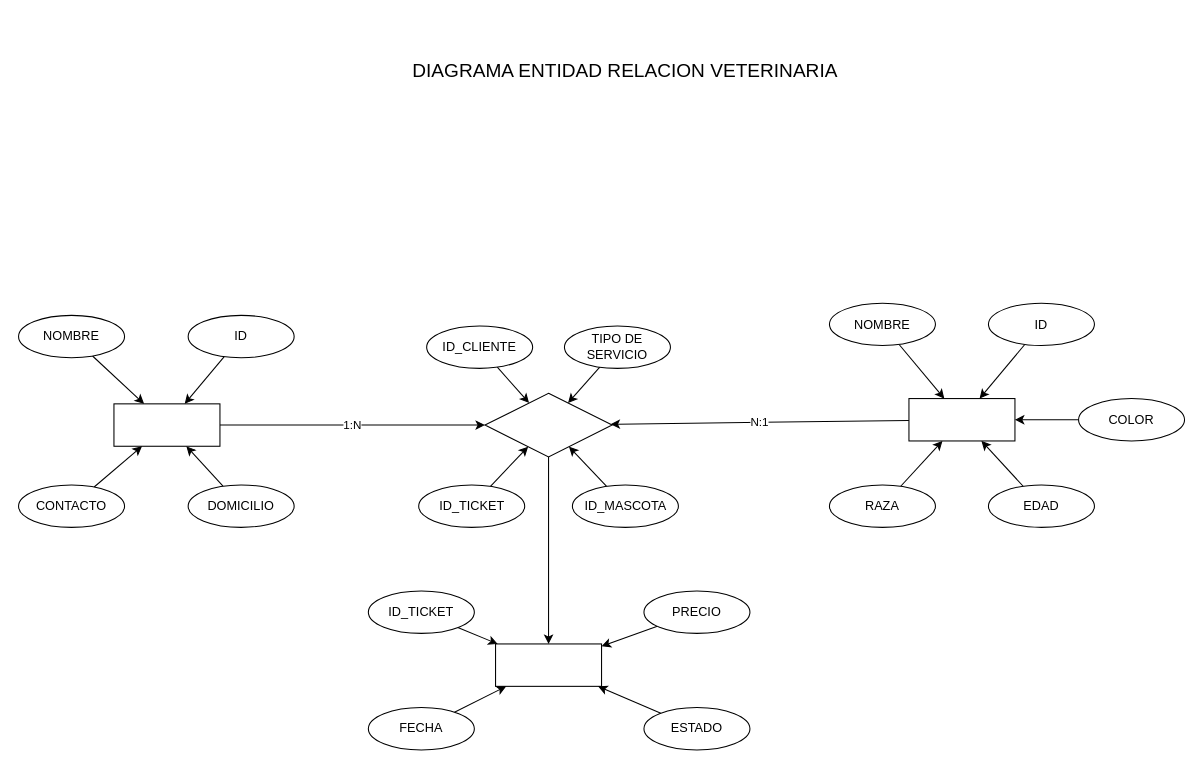
Image size: 1203x768. Some labels were removed from this diagram. The shapes that lost their labels are listed below. From the top down, each one's centre as x and y in pixels, then its label:
At [166,424]: "CLIENTE".
At [548,424]: "CONSULTAS".
At [961,419]: "MASCOTA".
At [548,664]: "VENTAS".
